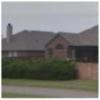chimneys: (5, 21, 12, 44)
